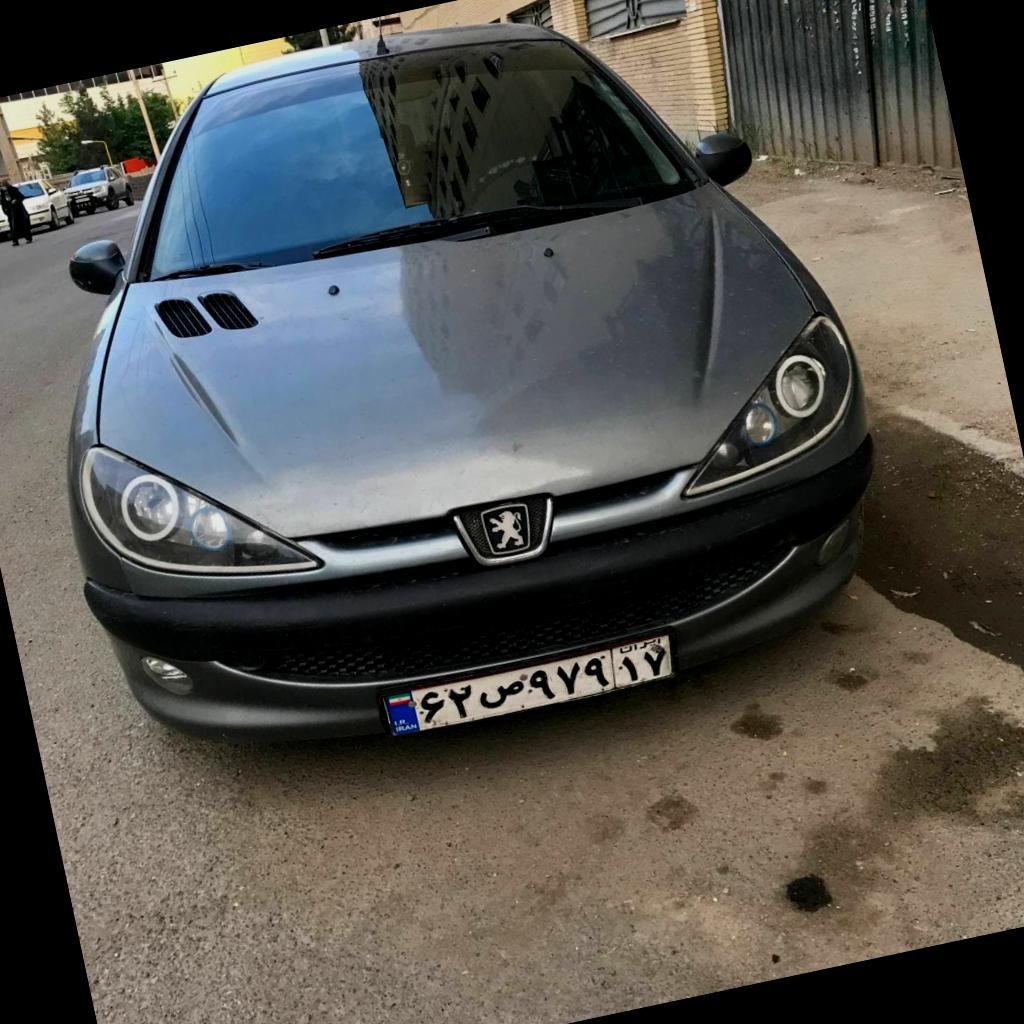Plates: (386, 633, 672, 735)
